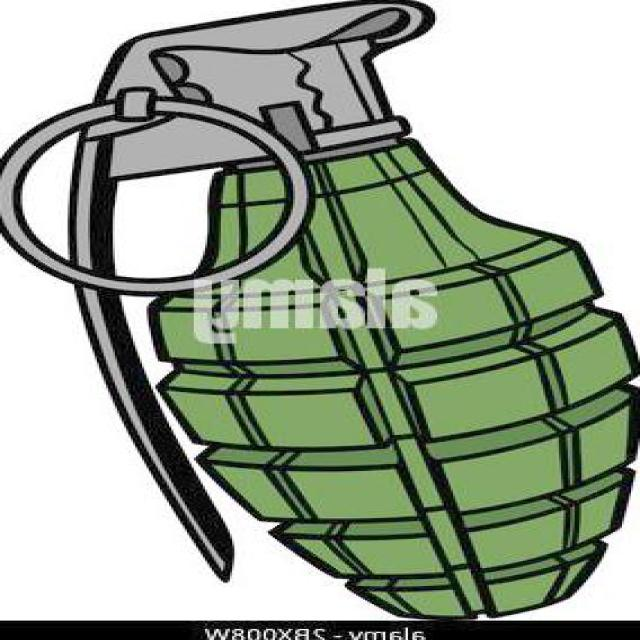grenade: (3, 1, 639, 622)
